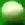white: (0, 0, 25, 25)
